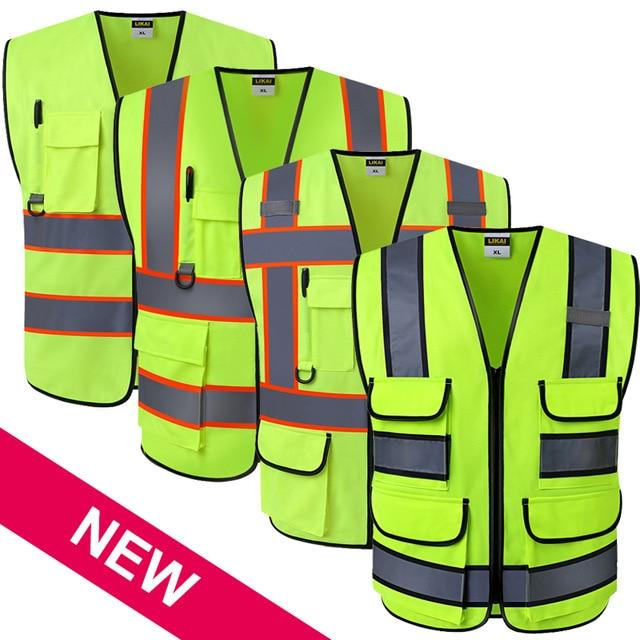Reflective-Jacket: (106, 65, 422, 476), (341, 217, 640, 634), (4, 1, 292, 427), (237, 150, 515, 553)
